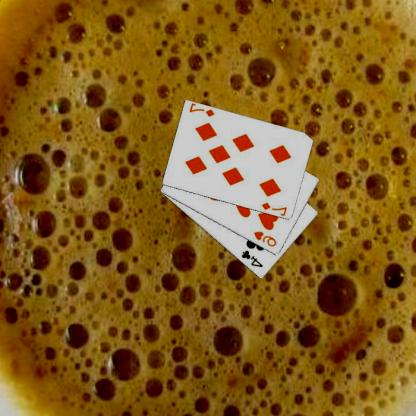4C: (240, 248, 265, 268)
7D: (188, 102, 218, 118), (261, 200, 290, 216)
9H: (253, 229, 279, 248)
